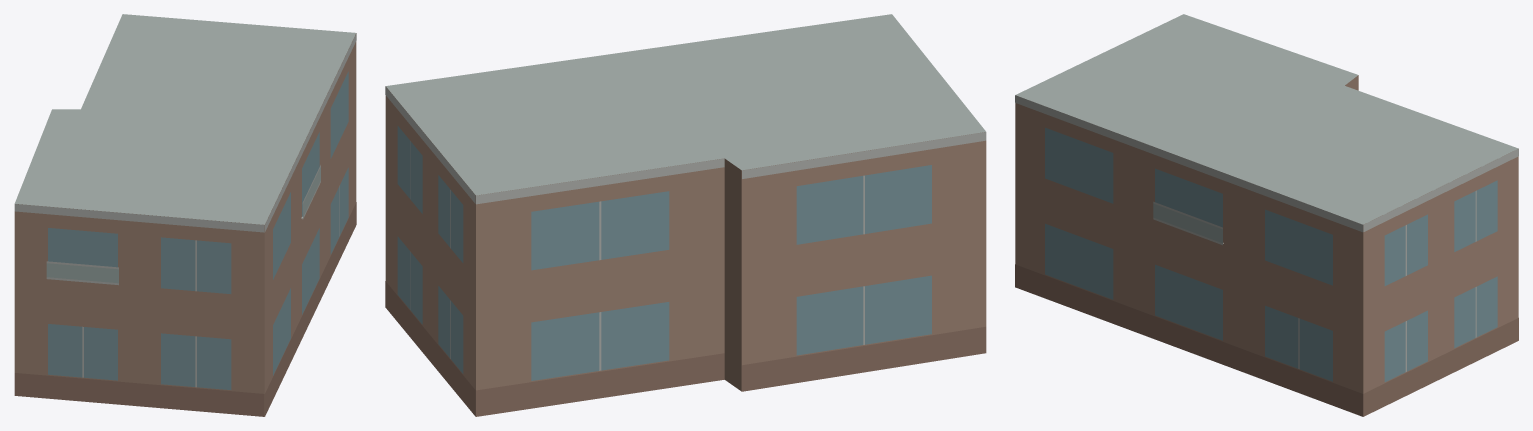
The model's file is survey-upis-32925348.glb.
The picture shows the model from 3 angles, left to right: view 1: azimuth 30°, elevation 25°; view 2: azimuth 150°, elevation 25°; view 3: azimuth 270°, elevation 25°; orthographic projection. The views are drawn at different scales.
Visible parts, largest first — view 1: survey-upis-32925348.tmp; view 2: survey-upis-32925348.tmp; view 3: survey-upis-32925348.tmp.
Part boxes in pixels (x1,y1,x2,y2): survey-upis-32925348.tmp: (14,14,356,416); survey-upis-32925348.tmp: (385,14,986,416); survey-upis-32925348.tmp: (1015,14,1518,416).
Size of the model in its own units: 14.36 by 6.1 by 14.5.
